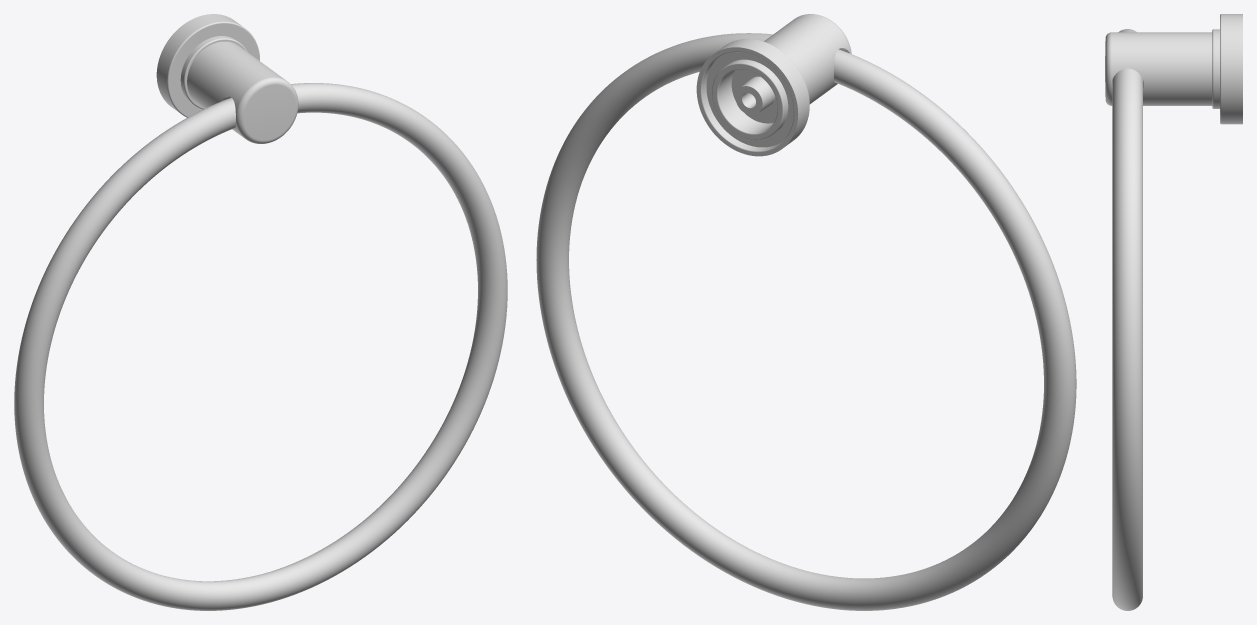
The model's file is 37TANS00.glb.
3 renders of one model, left to right at view 1: azimuth 30°, elevation 25°; view 2: azimuth 150°, elevation 25°; view 3: azimuth 270°, elevation 25°, orthographic. The views are drawn at different scales.
Visible parts, largest first — view 1: node_id9; view 2: node_id9; view 3: node_id9.
Part boxes in pixels (x1,y1,x2,y2): node_id9: [14, 14, 507, 610]; node_id9: [536, 14, 1076, 610]; node_id9: [1105, 14, 1242, 610].
Size of the model in its own units: 0.1932 by 0.2064 by 0.0458.
1 material, 1 textured.
